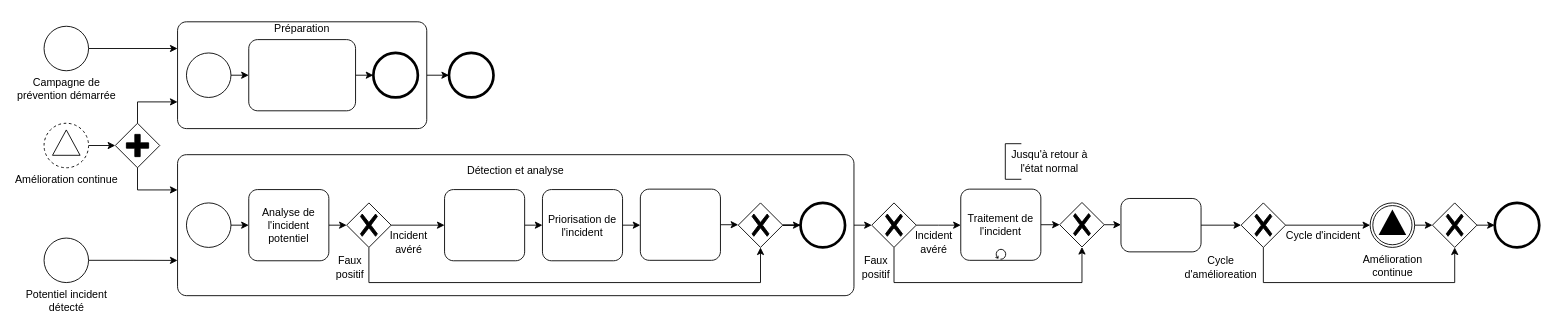
Image size: 1555x329. Some labels were removed from this diagram. The shapes that lost their labels are listed below. From the top down, each one's centre as x and y in pixels, then its label:
At point (302, 75): "Education, d'entrainement et sensibilisation à la sécurité".
At point (484, 225): "Documentation de l'incident".
At point (679, 224): "Notification".
At point (1160, 225): "Activités post-incident".
